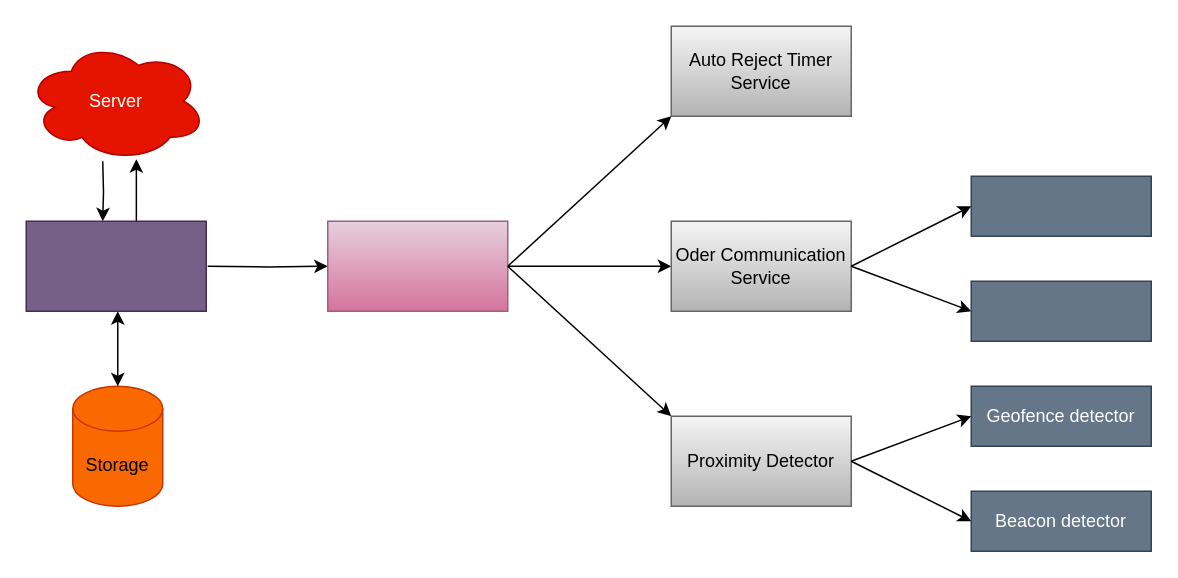
Image size: 1178x578. Some labels were removed from this diagram. Each missing label, with the box of its shape:
Media Player: (970, 280, 1151, 341)
Notification Util: (970, 175, 1151, 236)
Oder Status Tracker: (326, 220, 508, 311)
Orders Sync Module: (25, 220, 206, 311)
